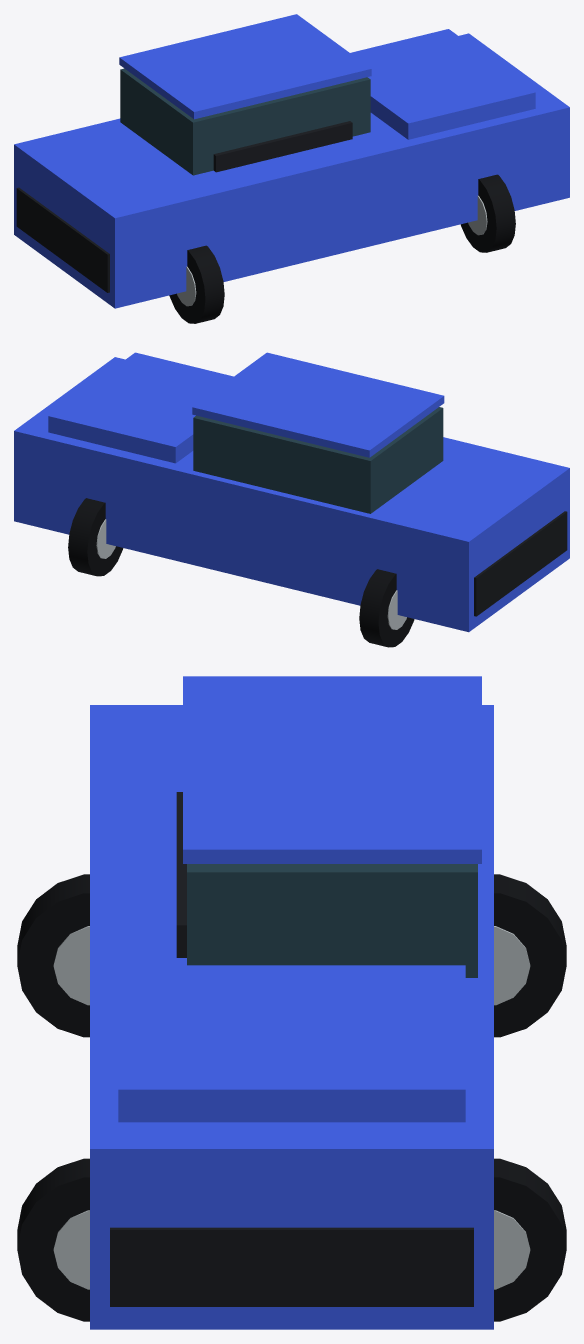
File: chevy_express_cutaway.glb
The picture shows the model from 3 angles, top to bottom: view 1: azimuth 30°, elevation 25°; view 2: azimuth 150°, elevation 25°; view 3: azimuth 270°, elevation 25°; orthographic projection. The views are drawn at different scales.
Parts seen in each view (by area): view 1: body, roof, hood, cabin, rear_bumper, front_right_wheel, rear_right_wheel, interior; view 2: body, roof, cabin, hood, rear_bumper, front_left_wheel, rear_left_wheel; view 3: body, roof, hood, cabin, front_bumper, front_left_wheel, front_right_wheel, rear_left_wheel, rear_right_wheel, interior.
Boxes of the visible parts, x1,y1,x2,y2 form: body: [14, 33, 569, 308]; roof: [119, 14, 371, 119]; hood: [350, 29, 535, 139]; cabin: [120, 68, 370, 175]; rear_bumper: [16, 187, 109, 292]; front_right_wheel: [460, 174, 515, 252]; rear_right_wheel: [169, 245, 224, 323]; interior: [213, 121, 352, 172]; body: [14, 357, 569, 632]; roof: [192, 352, 444, 457]; cabin: [193, 407, 443, 513]; hood: [48, 352, 233, 463]; rear_bumper: [474, 511, 567, 616]; front_left_wheel: [68, 498, 123, 576]; rear_left_wheel: [359, 569, 414, 647]; body: [90, 705, 493, 1329]; roof: [183, 676, 481, 863]; hood: [118, 965, 465, 1122]; cabin: [187, 864, 477, 977]; front_bumper: [110, 1227, 473, 1306]; front_left_wheel: [494, 1158, 566, 1321]; front_right_wheel: [17, 1158, 89, 1321]; rear_left_wheel: [494, 874, 566, 1037]; rear_right_wheel: [17, 874, 89, 1037]; interior: [176, 792, 186, 957].
Bounding box in the file's own units: 5.26 × 2.03 × 2.72.
